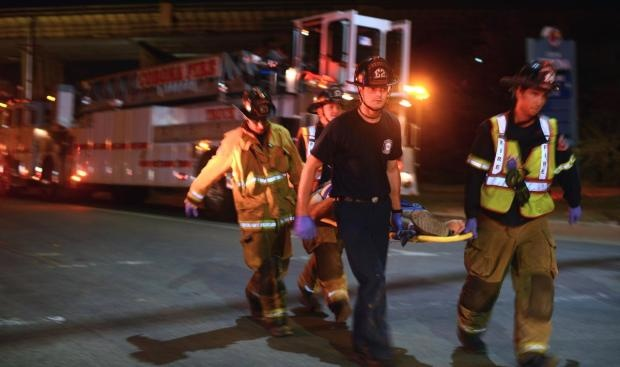red: (513, 59, 558, 115), (354, 55, 395, 110), (238, 86, 275, 134), (313, 83, 347, 125)
